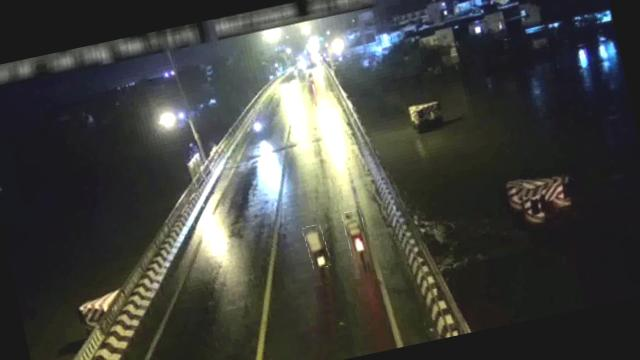Bike: (303, 223, 332, 269), (342, 209, 369, 256), (307, 71, 314, 83)
